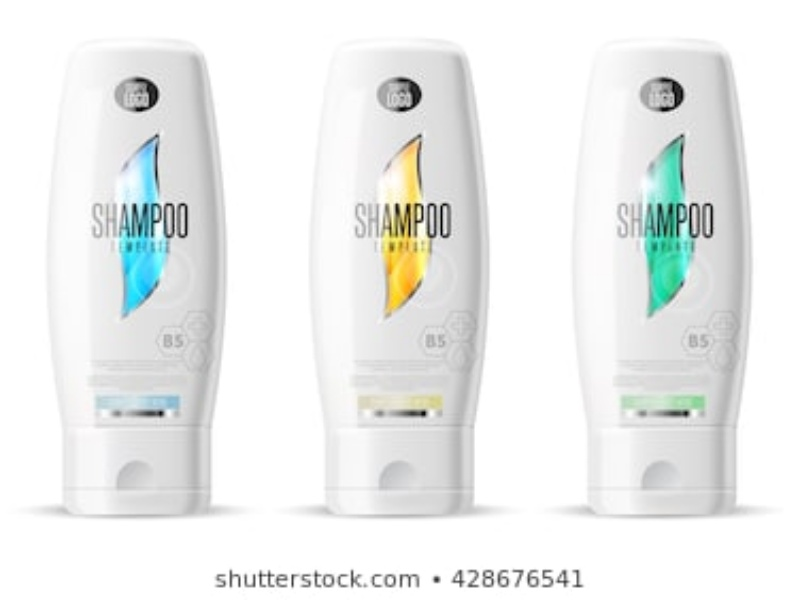shampoo-bottle: (46, 35, 229, 517), (568, 36, 751, 518), (304, 32, 487, 514)
